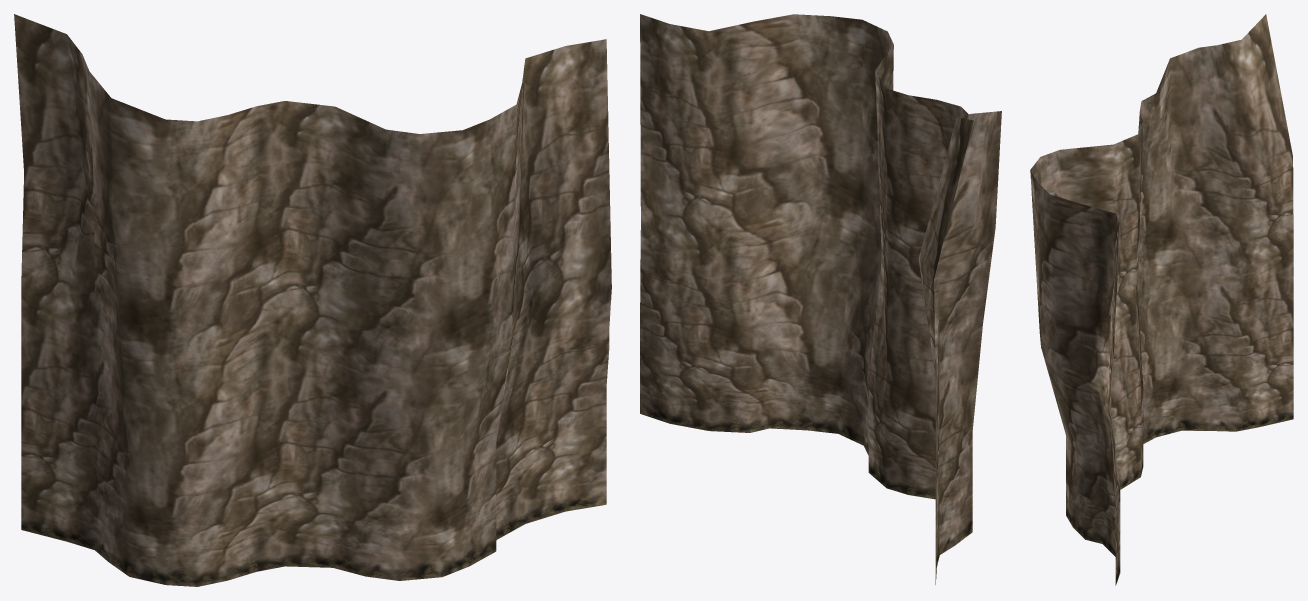
The model's file is OVERHILL_A_01_OBJECT01.fbx.
3 views of the same model, side by side, from view 1: azimuth 30°, elevation 25°; view 2: azimuth 150°, elevation 25°; view 3: azimuth 270°, elevation 25° (orthographic). The views are drawn at different scales.
Visible parts, largest first — view 1: OVERHILL_A_01_OBJECT01; view 2: OVERHILL_A_01_OBJECT01; view 3: OVERHILL_A_01_OBJECT01.
Part boxes in pixels (left/top/right/bottom): OVERHILL_A_01_OBJECT01: left=14, top=14, right=611, bottom=586; OVERHILL_A_01_OBJECT01: left=640, top=14, right=1001, bottom=584; OVERHILL_A_01_OBJECT01: left=1030, top=14, right=1293, bottom=585.
Size of the model in its own units: 136582 by 141924 by 85530.
2 materials, 2 textured.
